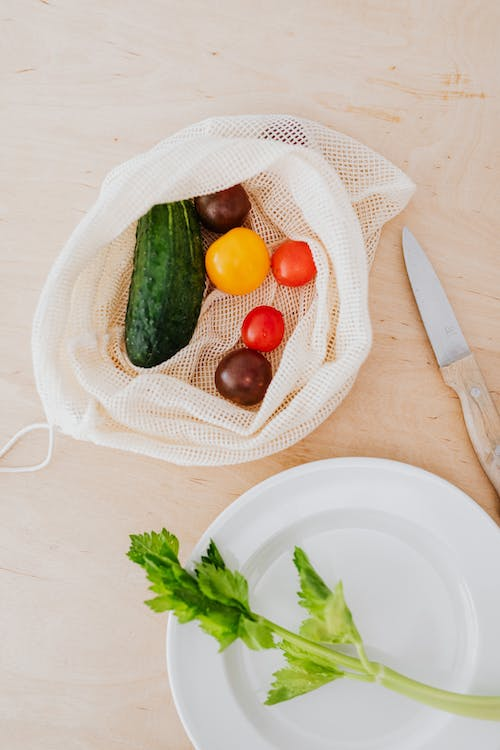knife: (399, 223, 500, 503)
